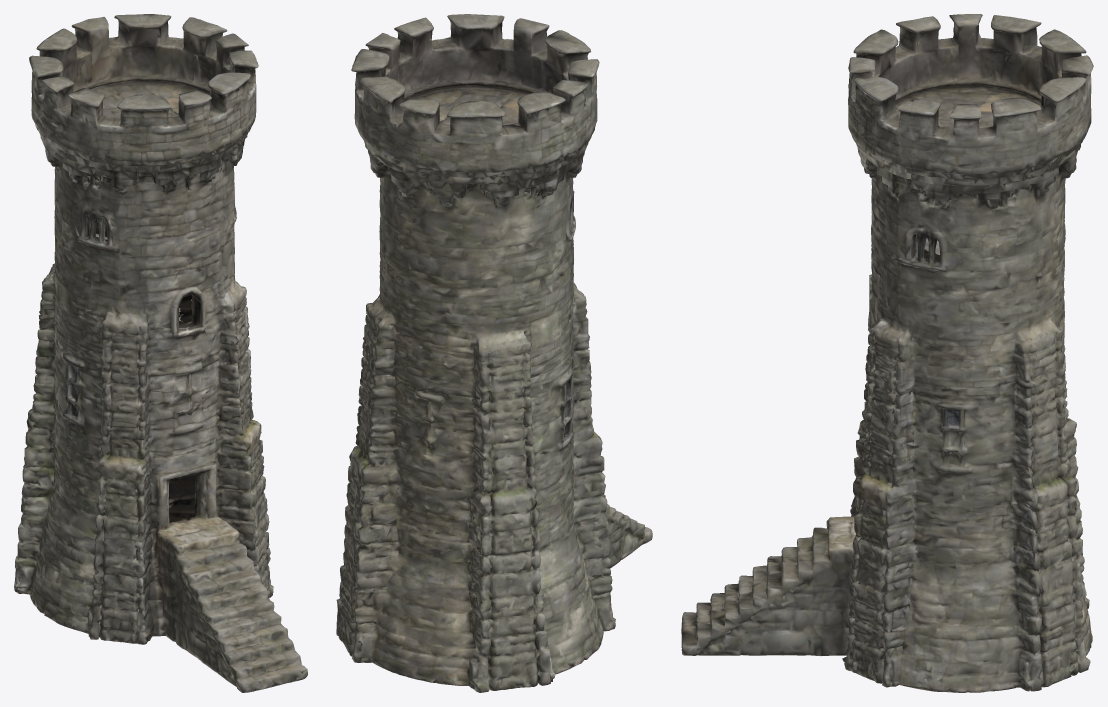
Rendered from gt_stone.glb.
3 views of the same model, side by side, from view 1: azimuth 30°, elevation 25°; view 2: azimuth 150°, elevation 25°; view 3: azimuth 270°, elevation 25° (orthographic). The views are drawn at different scales.
Parts seen in each view (by area): view 1: gt_stone; view 2: gt_stone; view 3: gt_stone.
Part boxes in pixels (x1,y1,x2,y2): gt_stone: (14,14,307,692); gt_stone: (336,14,652,692); gt_stone: (681,14,1093,692).
Bounding box in the file's own units: 0.7638 × 1.9 × 1.24.
1 material, 1 textured.
